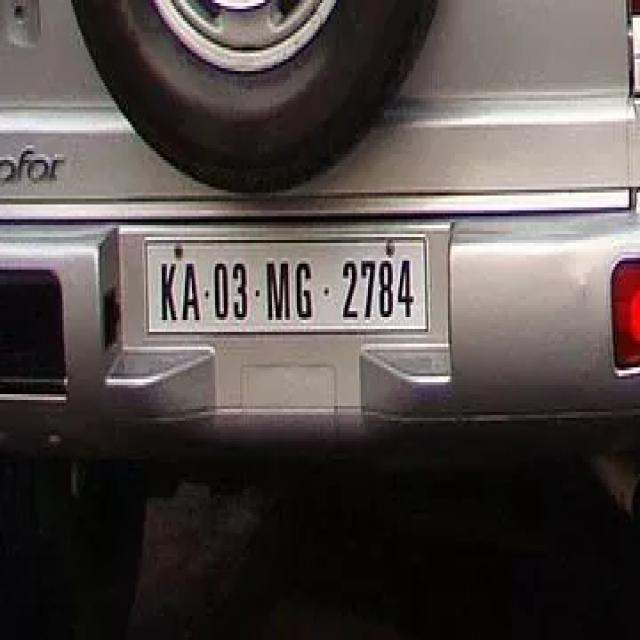plate: (144, 236, 433, 333)
